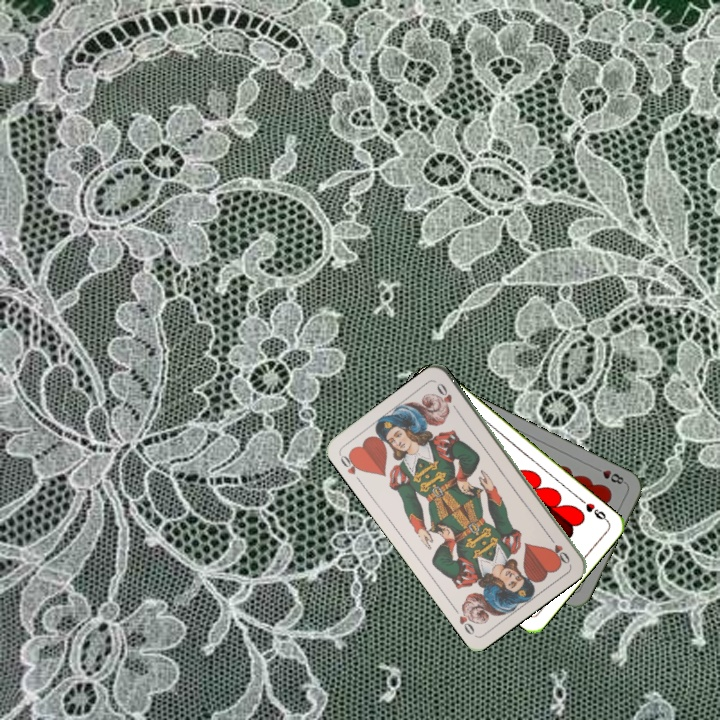H8: (590, 463, 628, 487)
H9: (576, 495, 611, 524)
HO: (336, 448, 366, 486), (544, 531, 572, 566)
